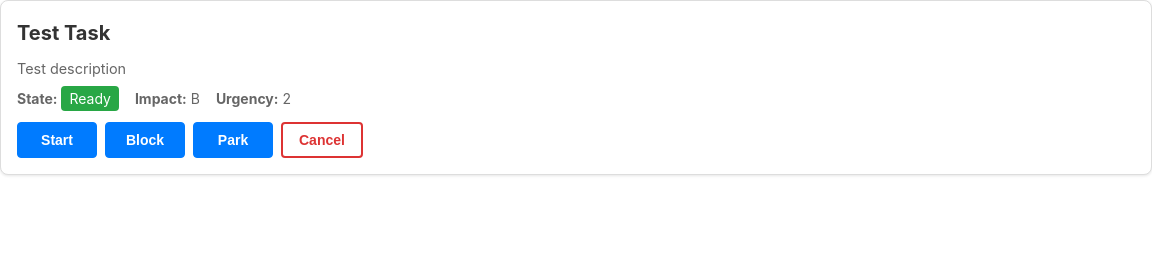
Test: TaskCard › handles API error and shows error message
Click the button "Start": (57, 140) 17,122 -> 97,158
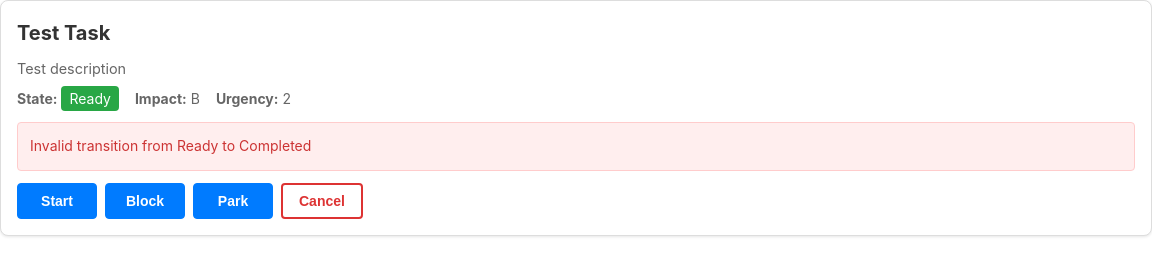
expect the button "Start" is shown: met, box 17,183 -> 97,219
expect the text "Invalid transition from Ready to Completed" is shown: met, box 17,122 -> 1135,171
